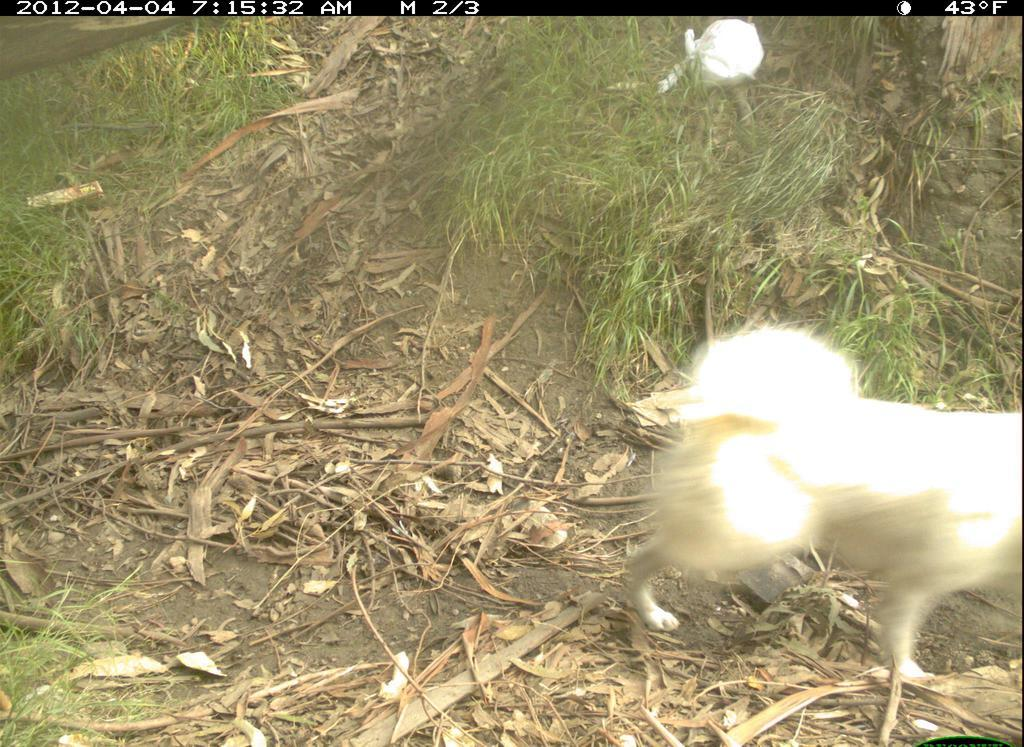dog: (624, 324, 1023, 685)
